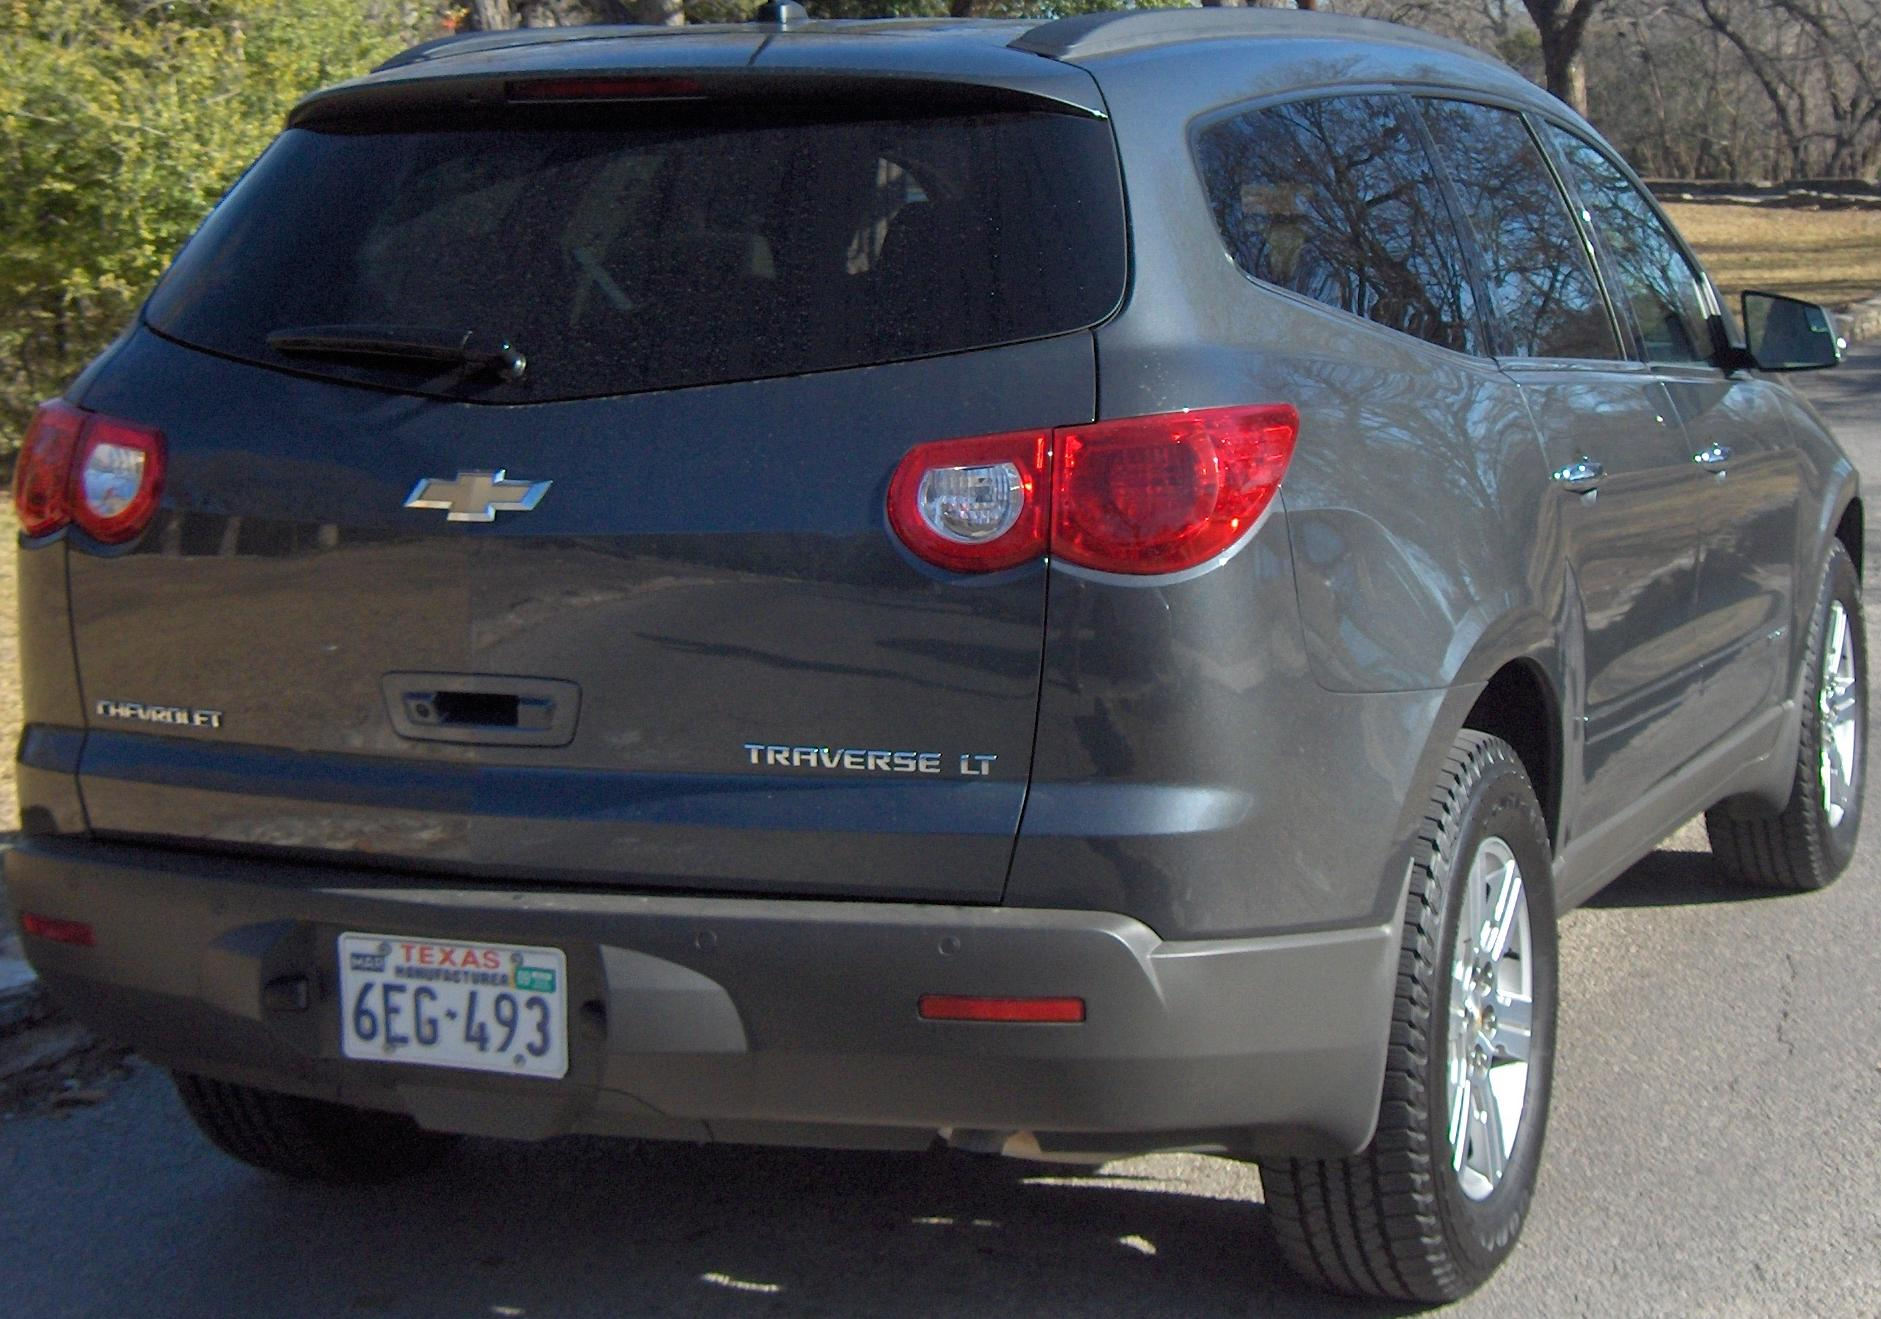back_view: (7, 366, 1401, 1170)
backlight: (850, 394, 1324, 614)
side_glass: (1168, 61, 1747, 399)
